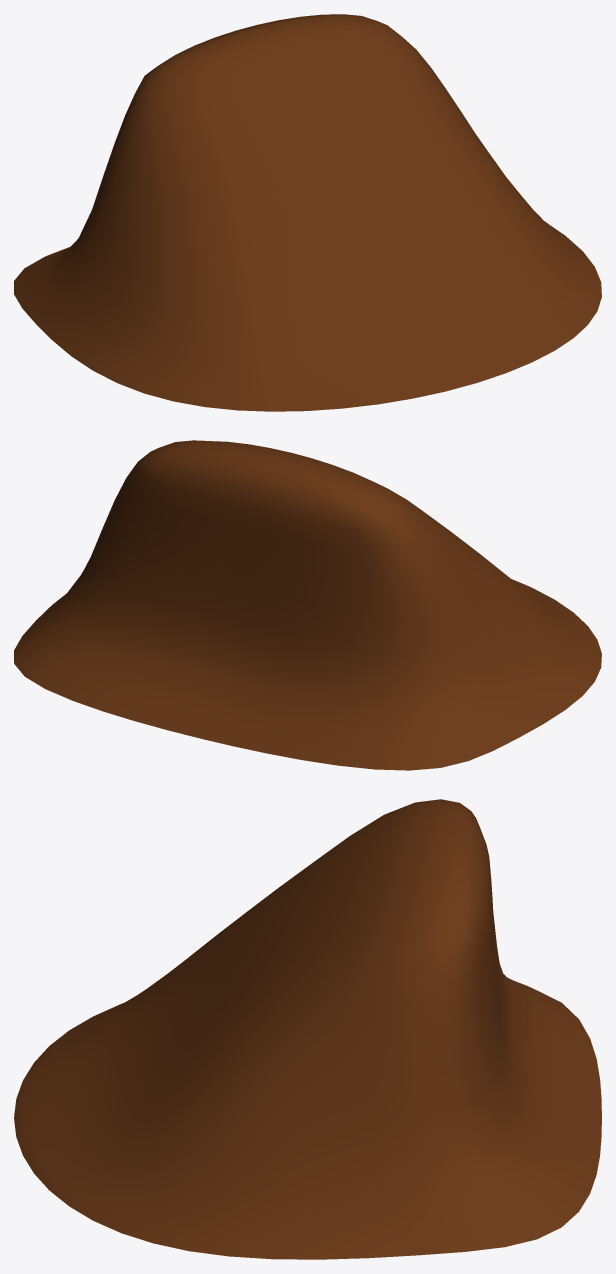
Rendered from wall.fbx.
The picture shows the model from 3 angles, top to bottom: view 1: azimuth 30°, elevation 25°; view 2: azimuth 150°, elevation 25°; view 3: azimuth 270°, elevation 25°; orthographic projection. The views are drawn at different scales.
Visible parts, largest first — view 1: RampaTeste; view 2: RampaTeste; view 3: RampaTeste.
Boxes of the visible parts, x1,y1,x2,y2 form: RampaTeste: (14,14,601,411); RampaTeste: (14,440,601,770); RampaTeste: (14,799,601,1259).
Bounding box in the file's own units: 1233 × 555 × 1062.
